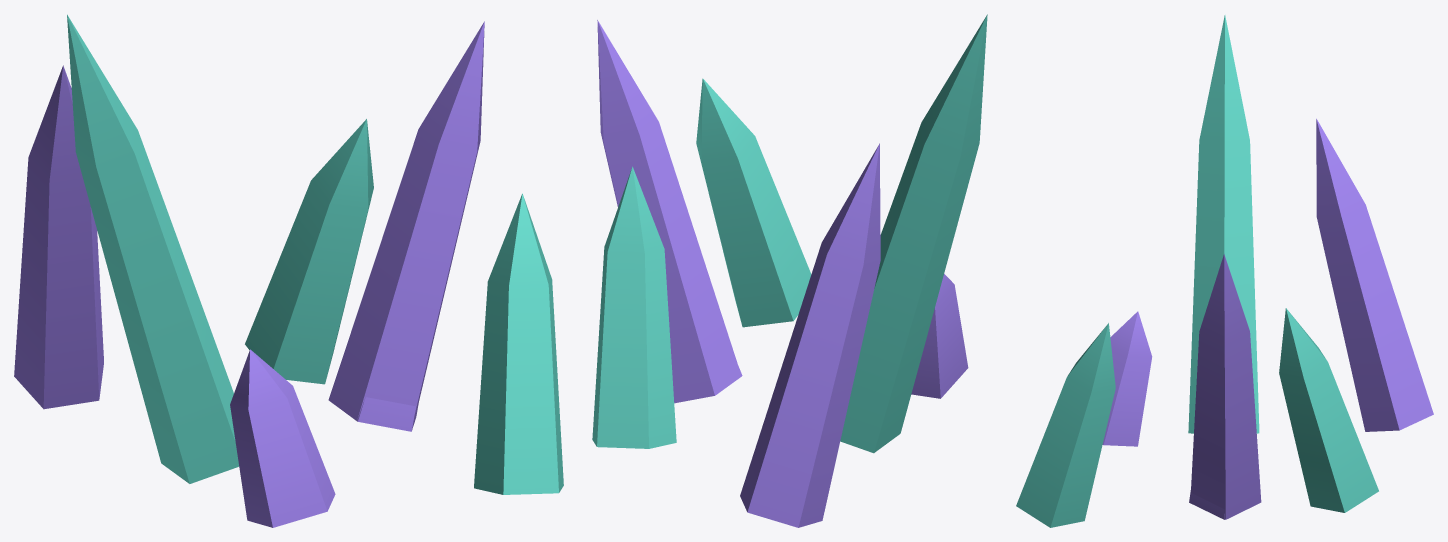
The model's file is crystal.glb.
The picture shows the model from 3 angles, left to right: view 1: azimuth 30°, elevation 25°; view 2: azimuth 150°, elevation 25°; view 3: azimuth 270°, elevation 25°; orthographic projection. The views are drawn at different scales.
Visible parts, largest first — view 1: crystal; view 2: crystal; view 3: crystal.
Part boxes in pixels (x1,y1,x2,y2): crystal: [14, 14, 563, 527]; crystal: [592, 14, 987, 527]; crystal: [1016, 15, 1433, 527].
Bounding box in the file's own units: 1.39 × 1.55 × 1.57.
